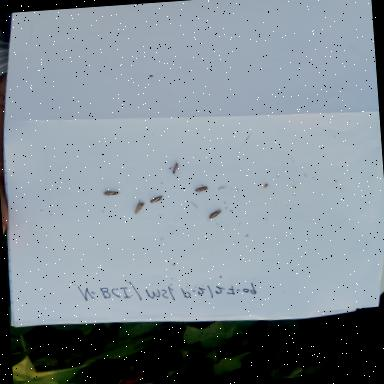pbw: (126, 198, 148, 216), (191, 181, 210, 195), (204, 208, 222, 222), (169, 156, 181, 176), (100, 187, 122, 197), (148, 194, 164, 204)
